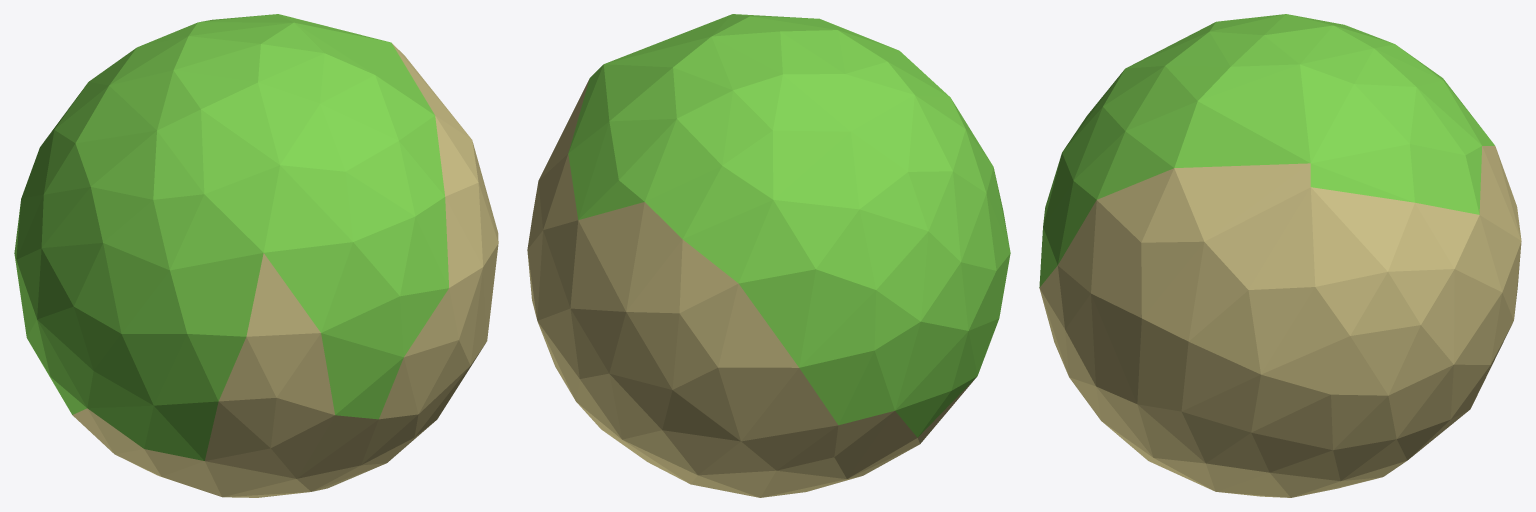
File: tatooine.dae
3 renders of one model, left to right at view 1: azimuth 30°, elevation 25°; view 2: azimuth 150°, elevation 25°; view 3: azimuth 270°, elevation 25°, orthographic.
Visible parts, largest first — view 1: Icosphere; view 2: Icosphere; view 3: Icosphere.
Part boxes in pixels (box(x1,y1,x2,y2)): Icosphere: box(14, 14, 498, 497); Icosphere: box(527, 14, 1010, 497); Icosphere: box(1039, 14, 1521, 497).
Bounding box in the file's own units: 6.04 × 5.99 × 6.03.
